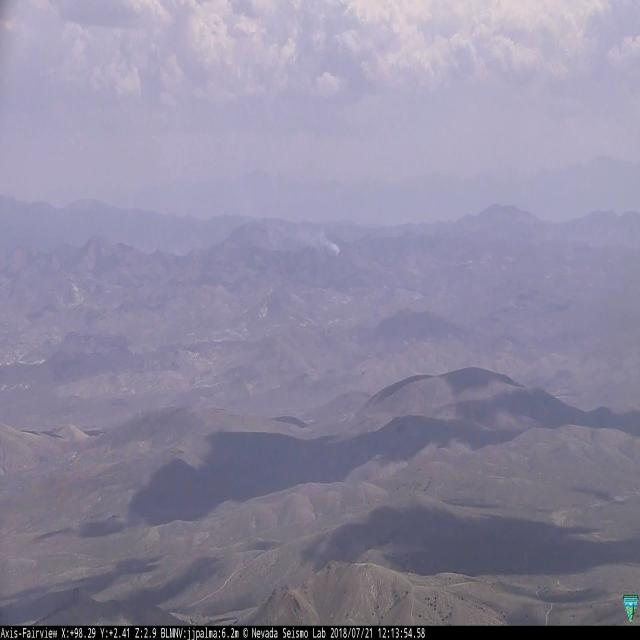smoke: (318, 227, 339, 255)
